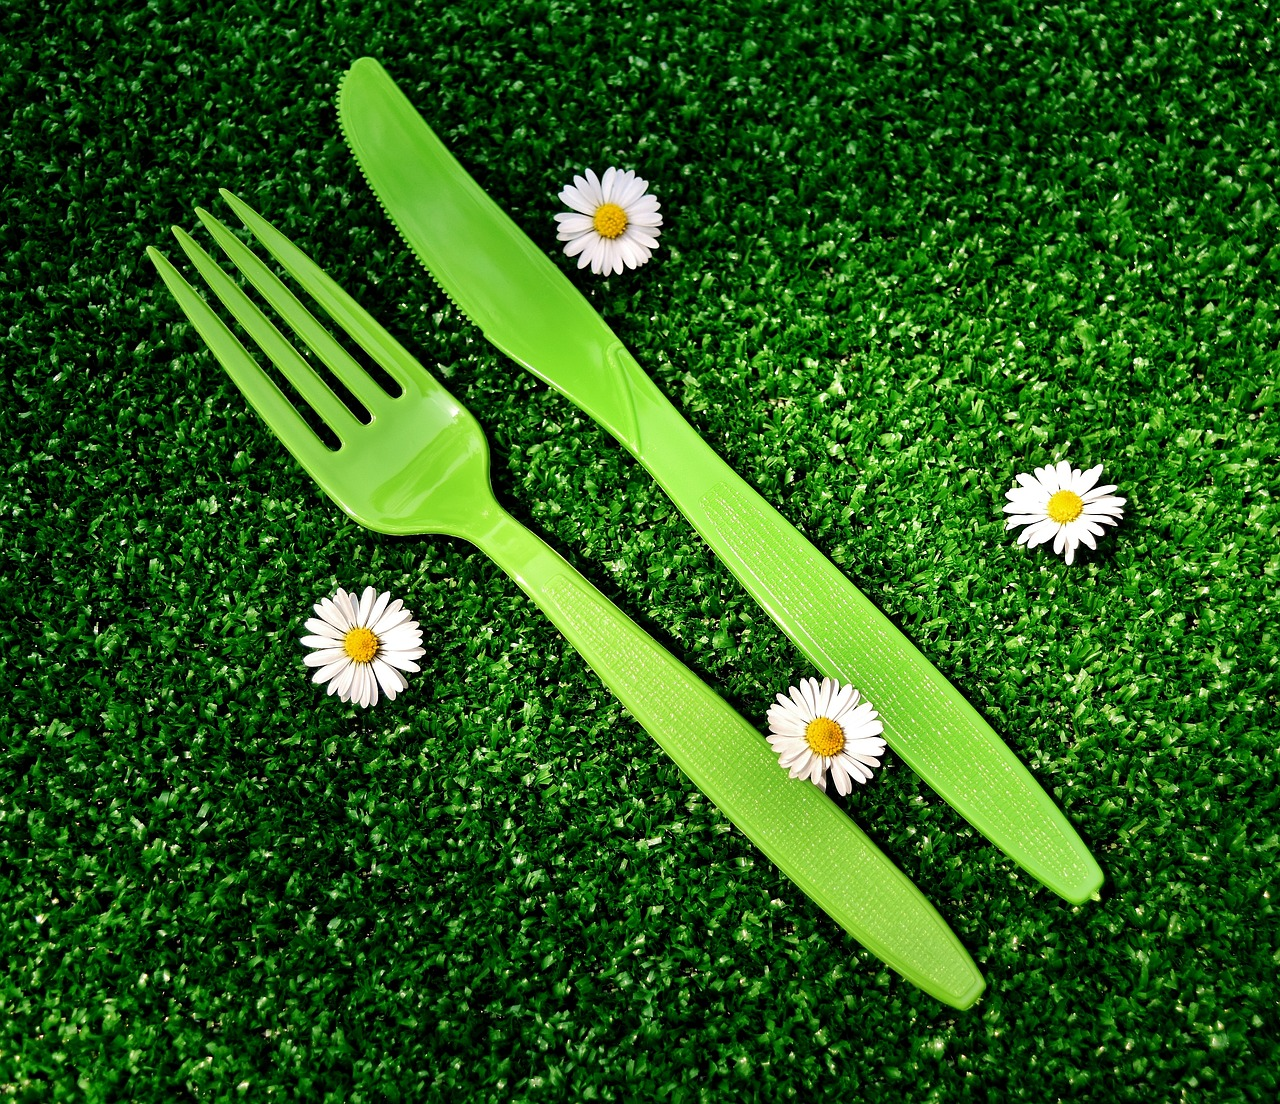knife: (317, 42, 1113, 906)
